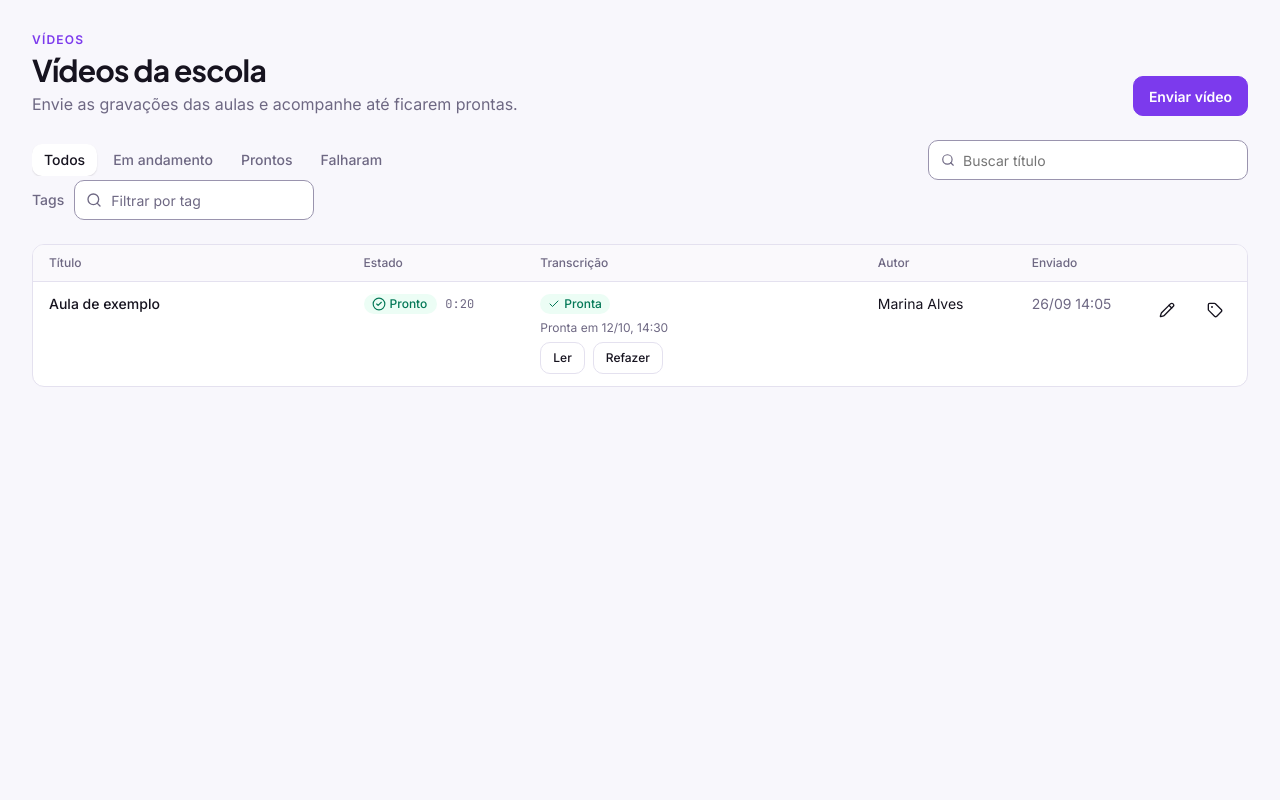
Scenario: video-transcription-reader › shows loading placeholders and lets the professor close during loading
The width and height of the screenshot is (1280, 800).
Click the button with aria-label "Ler transcrição de Aula de exemplo": (563, 358) [540,342,585,374]
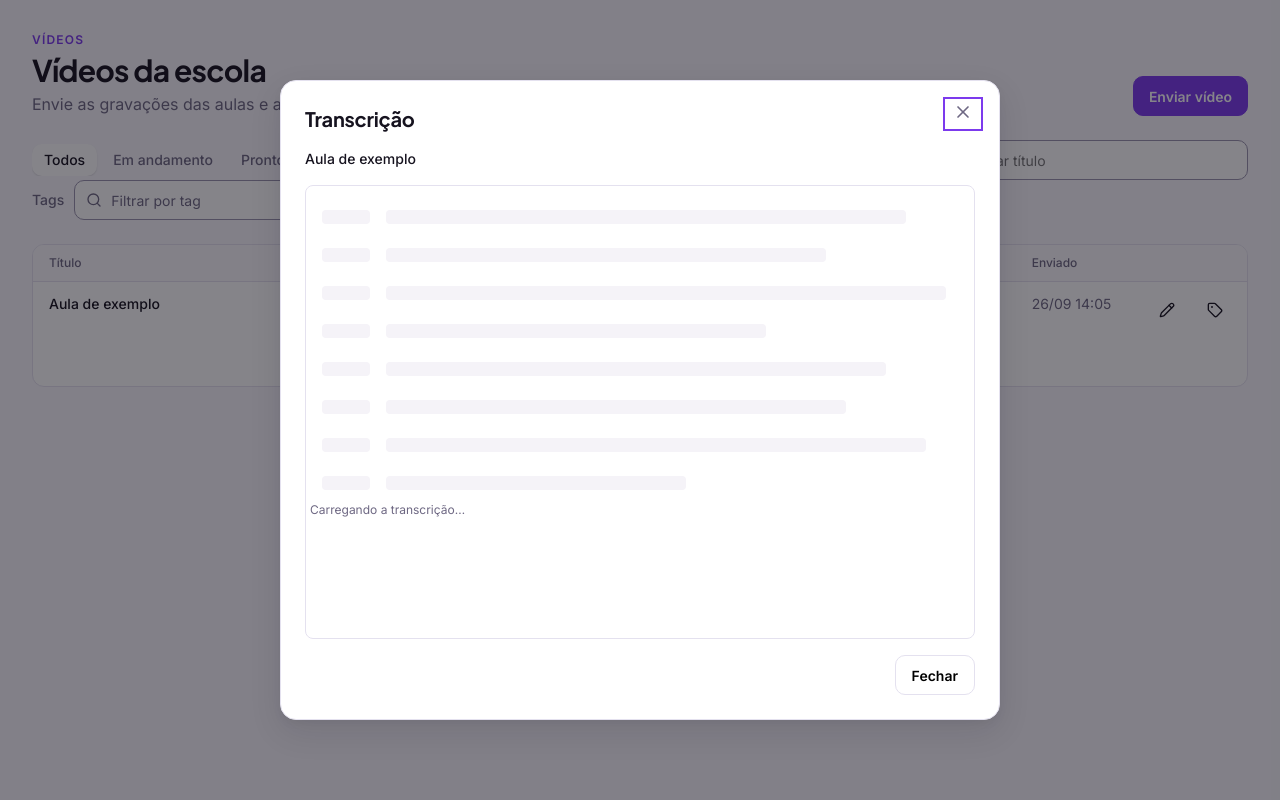
Now the text "Carregando a transcrição…" is shown, box [310,502,465,517]
Click the button named "Fechar": (963, 114) [947,101,979,127]
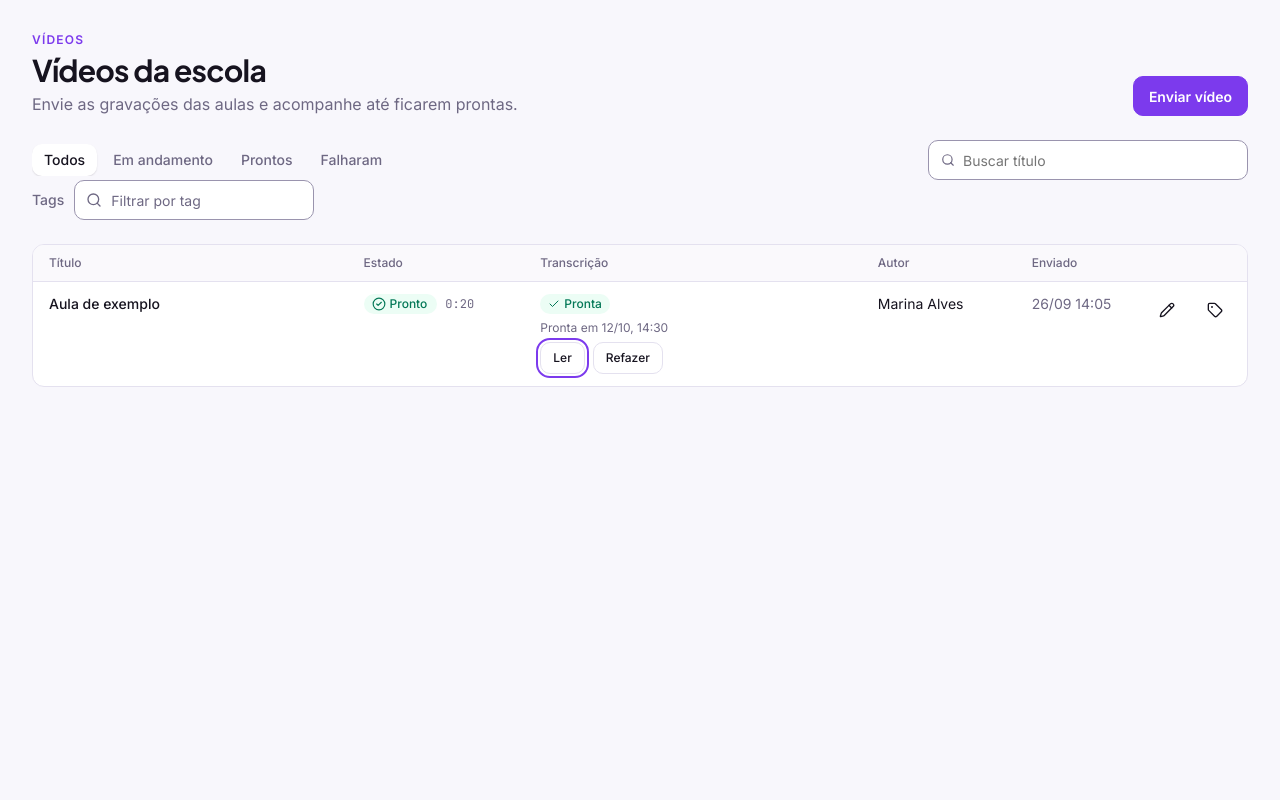
Now the dialog is gone
